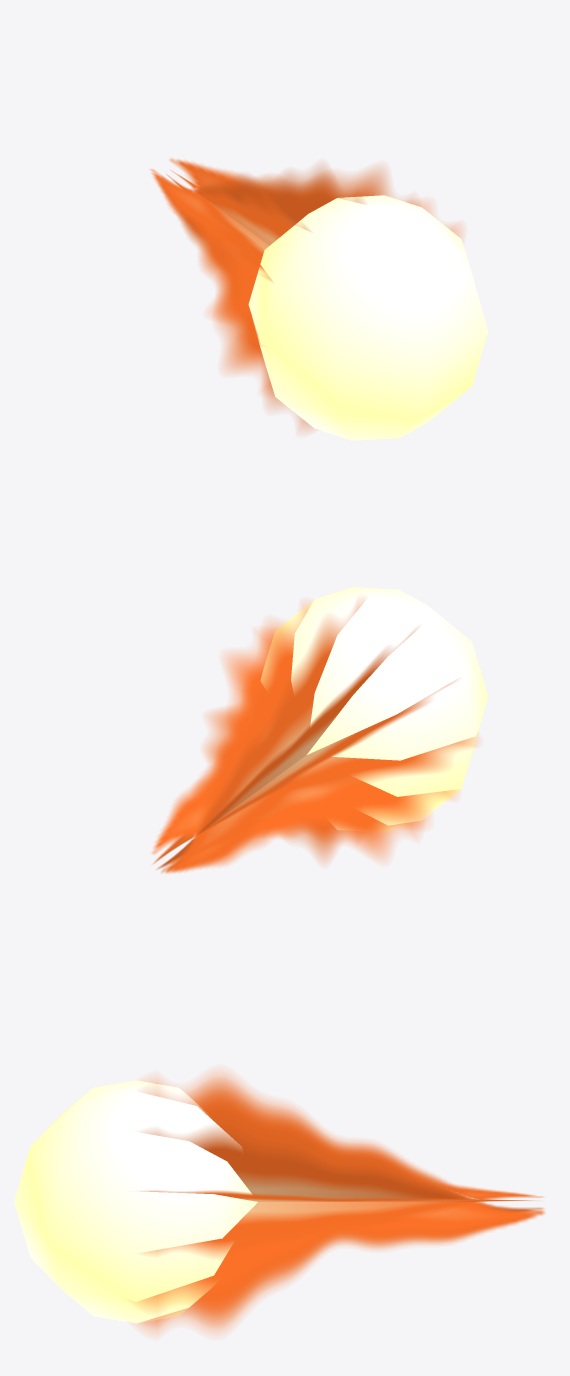
The model's file is fx_impfire.glb.
The picture shows the model from 3 angles, top to bottom: view 1: azimuth 30°, elevation 25°; view 2: azimuth 150°, elevation 25°; view 3: azimuth 270°, elevation 25°; orthographic projection.
Visible parts, largest first — view 1: impfire_impfire_core, impfire_impfire_flame; view 2: impfire_impfire_flame, impfire_impfire_core; view 3: impfire_impfire_core, impfire_impfire_flame.
Part boxes in pixels (x1,y1,x2,y2): impfire_impfire_core: (248, 195, 488, 440); impfire_impfire_flame: (150, 158, 462, 431); impfire_impfire_flame: (152, 601, 477, 873); impfire_impfire_core: (260, 587, 488, 832); impfire_impfire_core: (14, 1080, 257, 1323); impfire_impfire_flame: (135, 1071, 544, 1334).
Bounding box in the file's own units: 0.42 × 0.42 × 0.71.
Materials: 2 (1 with a texture image).
